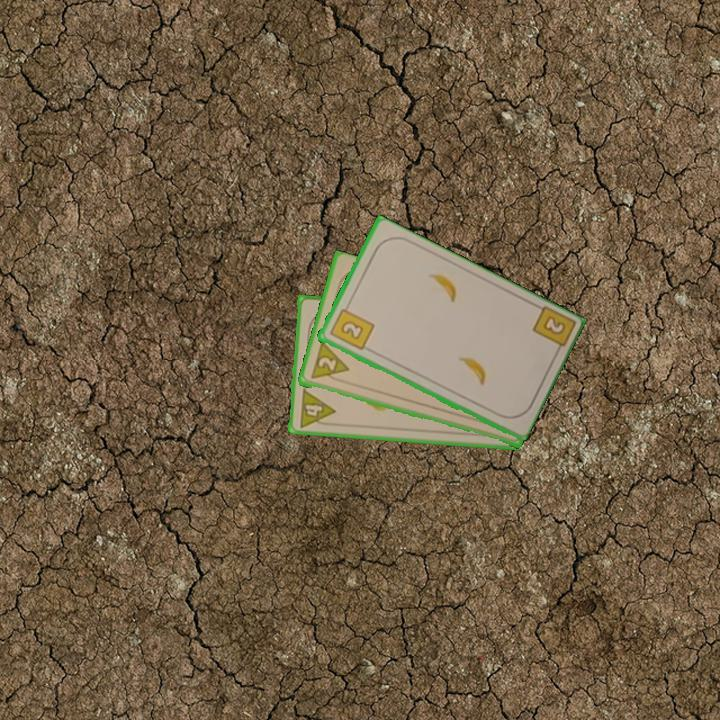2b: (528, 303, 576, 359), (326, 301, 377, 353)
2p: (307, 340, 352, 385)
4p: (295, 386, 338, 430)
